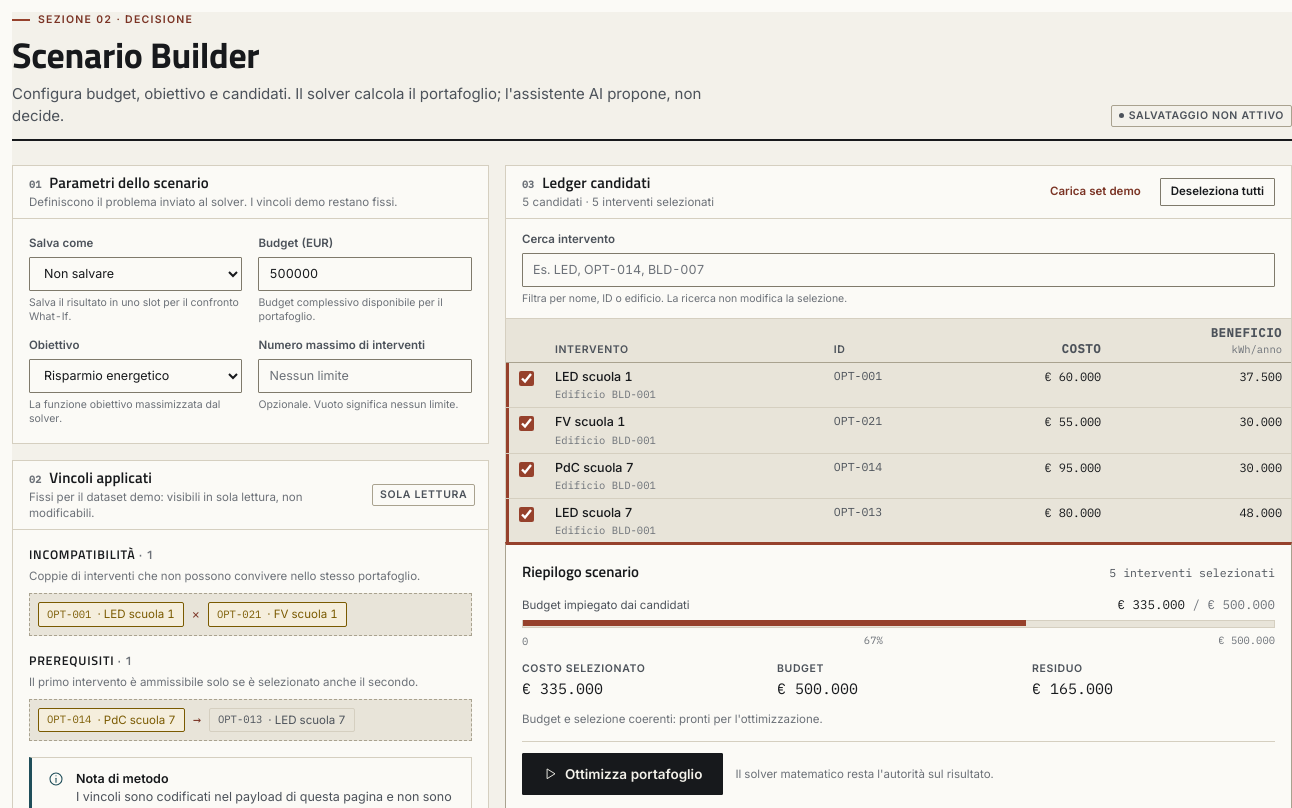
Test: ScenarioBuilder › disabilita l’ottimizzazione con budget nullo o nessun candidato
Expected: the checkbox named "Seleziona LED scuola 1" is checked, x1=519 y1=371 x2=534 y2=386
Replace the text in the number field labelled "Budget (EUR)" with "0" at (365, 274), box x1=258 y1=257 x2=472 y2=291
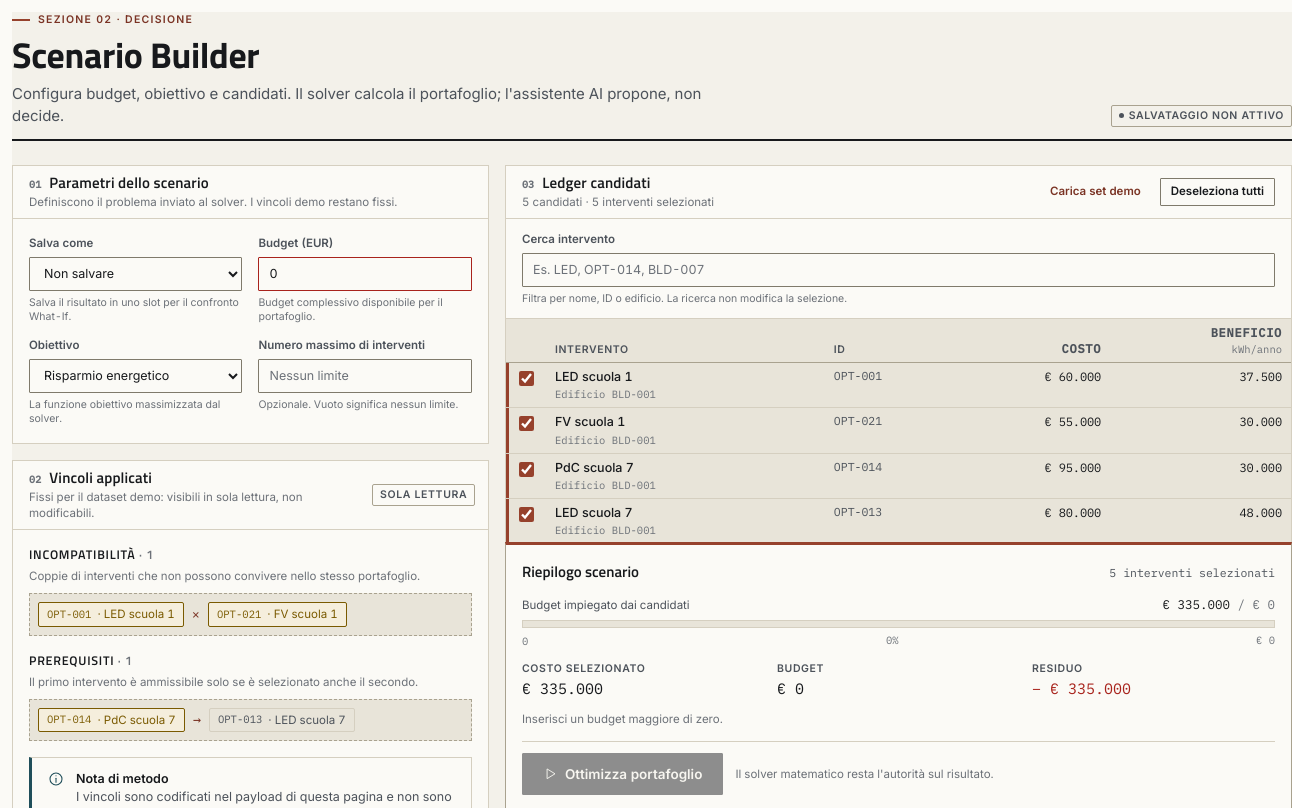
Expected: the button "Ottimizza portafoglio" is disabled, x1=522 y1=753 x2=723 y2=795
Expected: the text "Inserisci un budget maggiore di zero." is shown, x1=522 y1=712 x2=723 y2=726
Replace the text in the number field labelled "Budget (EUR)" with "500000" at (365, 274), box x1=258 y1=257 x2=472 y2=291
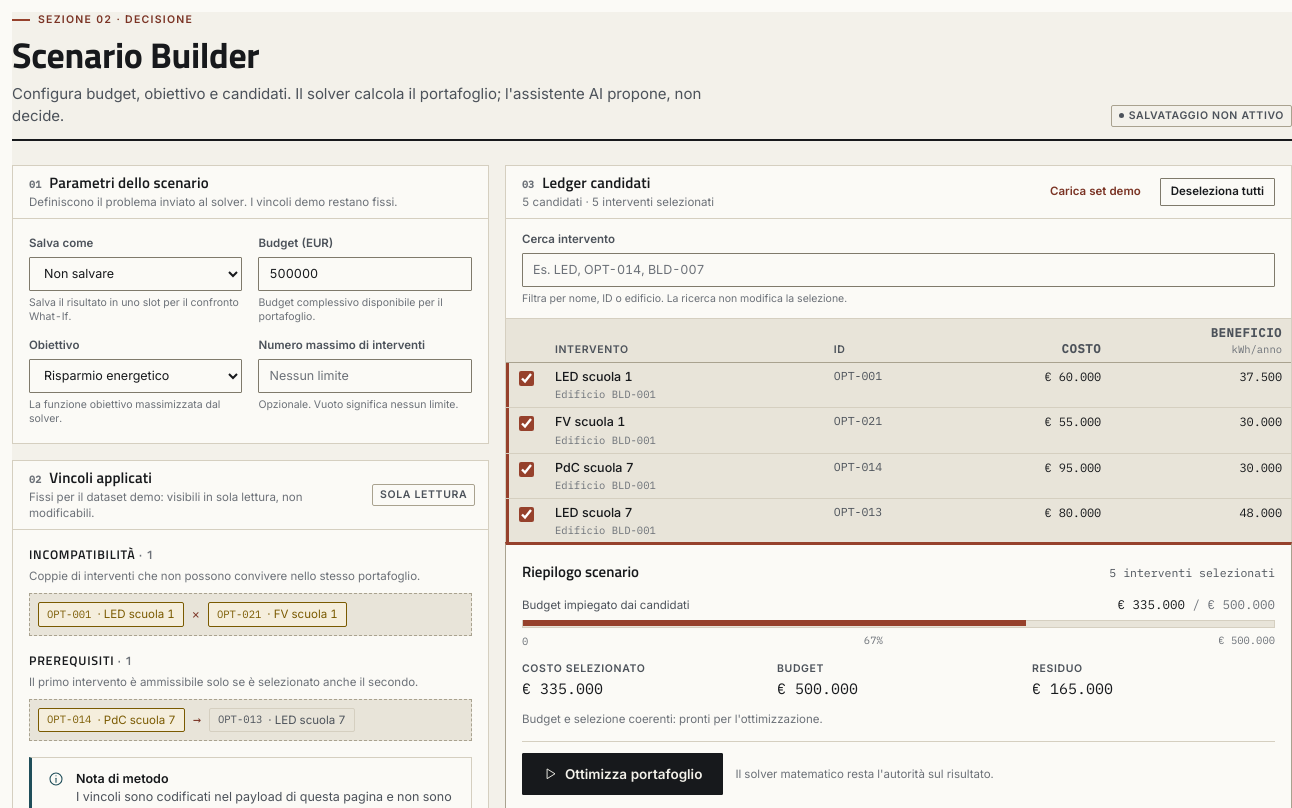
Expected: the button "Ottimizza portafoglio" is enabled, x1=522 y1=753 x2=723 y2=795
Click the button "Deseleziona tutti".
click(1217, 192)  # box x1=1160 y1=178 x2=1275 y2=206
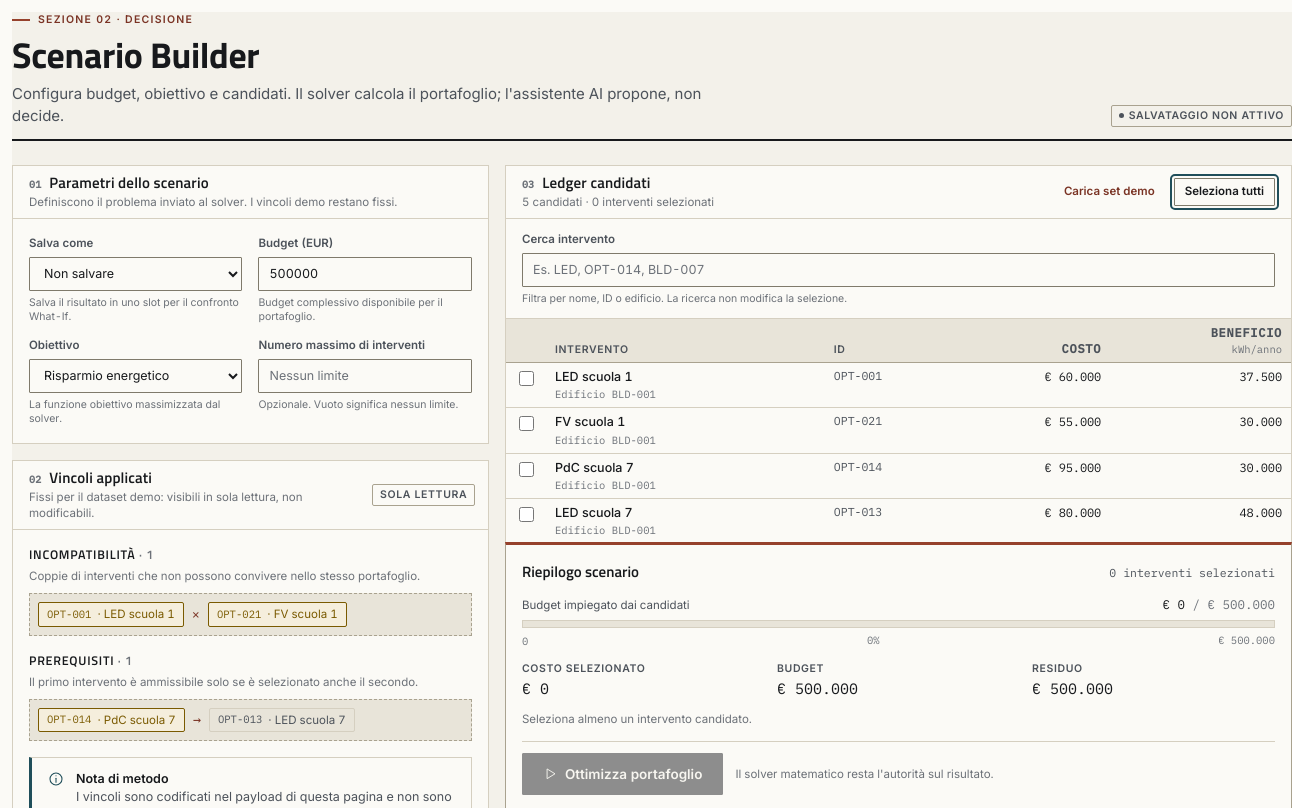
Expected: the button "Ottimizza portafoglio" is disabled, x1=522 y1=753 x2=723 y2=795
Expected: the text "Seleziona almeno un intervento candidato." is shown, x1=522 y1=712 x2=752 y2=726
